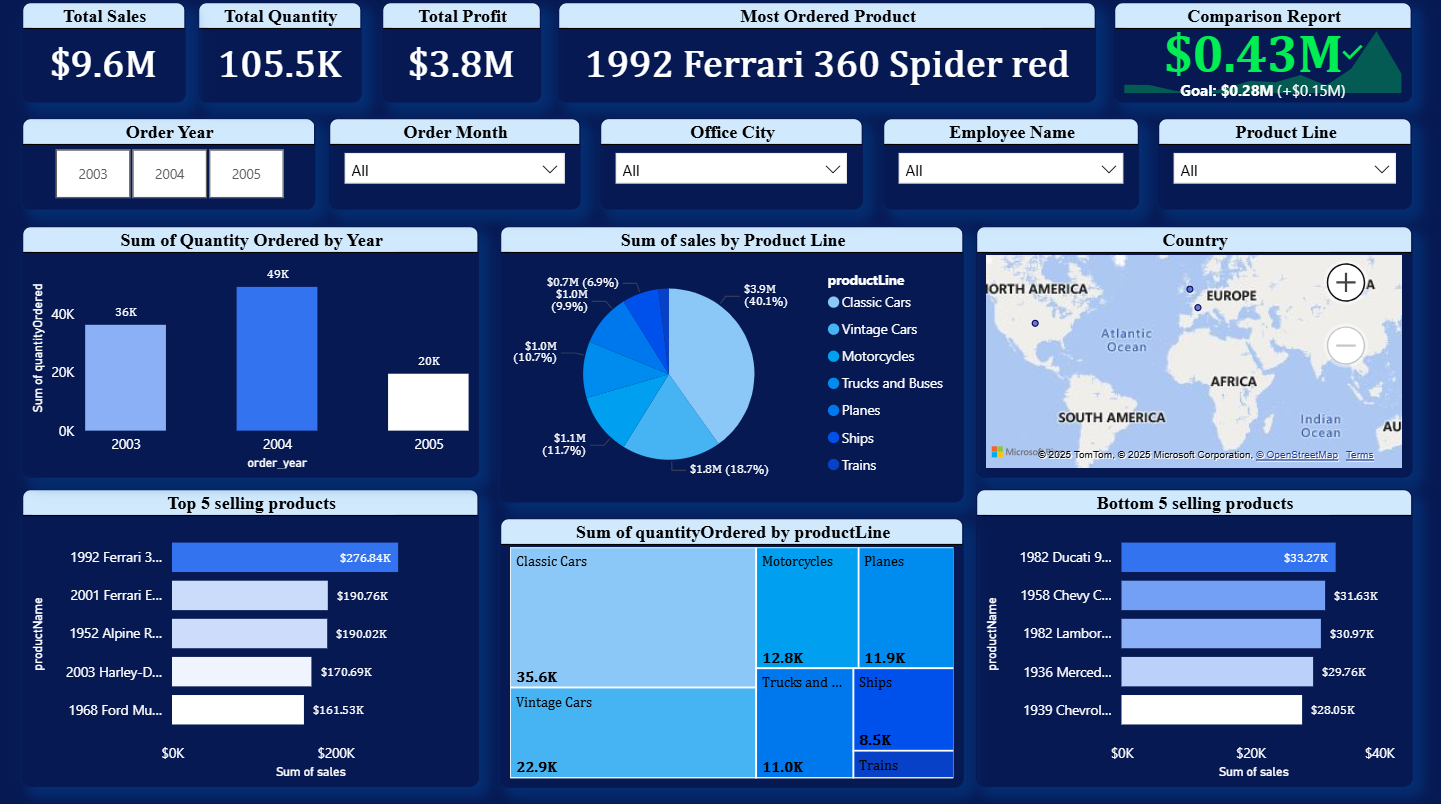

Layout of this report page (visuals, bound fields, positions):
{"tool":"powerbi","page":{"name":"Page 1","canvas":[1280,720],"ordinal":0},"visuals":[{"type":"card","title":"Total Profit","fields":{"Values":["order details.total_profit"]},"box":[339.6,8,141,88.7],"z":0},{"type":"card","title":"Most Ordered Product","fields":{"Values":["order details.Most Ordered Product"]},"box":[495.7,8,477,88.7],"z":1000},{"type":"barChart","title":"Top 5 selling products","fields":{"Category":["products.productName"],"Y":["order details.sales"]},"box":[20.4,439.8,405.2,264.2],"z":2000},{"type":"pieChart","title":"Sum of sales by Product Line","fields":{"Category":["products.productLine"],"Y":["order details.sales"]},"box":[444.2,206.6,411.4,244.7],"z":3000},{"type":"slicer","title":"Order Year","fields":{"Values":["orders.order_year"]},"box":[20.4,110.8,259.8,80.7],"z":4000},{"type":"slicer","title":"Office City","fields":{"Values":["offices.city"]},"box":[532.9,110.8,233.2,80.7],"z":5000},{"type":"kpi","title":"Comparison Report","fields":{"Goal":["orders.sales_2003"],"TrendLine":["orders.Month Name"],"Indicator":["orders.sales_2004"]},"box":[988.7,8,264.2,88.7],"z":6000},{"type":"map","title":"Country","fields":{"Category":["employee.country"]},"box":[866.3,206.6,386.6,223.4],"z":7000},{"type":"treemap","fields":{"Group":["productlines.productLine"],"Values":["order details.quantityOrdered"]},"box":[444.2,465.5,411.4,238.5],"z":8000},{"type":"columnChart","title":"Sum of Quantity Ordered by Year","fields":{"Y":["order details.quantityOrdered"],"Category":["orders.order_year"]},"box":[20.4,206.6,405.2,223.4],"z":9000},{"type":"card","title":"Total Quantity","fields":{"Values":["order details.quantityOrdered"]},"box":[176.5,8,144.5,88.7],"z":10000},{"type":"card","title":"Total Sales","fields":{"Values":["order details.sales"]},"box":[20.4,8,144.5,88.7],"z":11000},{"type":"slicer","title":"Order Month","fields":{"Values":["orders.Month Name"]},"box":[292.6,110.8,222.6,80.7],"z":12000},{"type":"slicer","title":"Employee Name","fields":{"Values":["employee.FullName"]},"box":[783.8,110.8,227,80.7],"z":13000},{"type":"slicer","title":"Product Line","fields":{"Values":["productlines.productLine"]},"box":[1027.7,110.8,225.2,80.7],"z":14000},{"type":"barChart","title":"Bottom 5 selling products","fields":{"Category":["products.productName"],"Y":["order details.sales"]},"box":[866.3,439.8,386.6,264.2],"z":15000}]}

Visuals, with their boxes in screenshot pixels (x1, y1, x2, y2), scaled from the page's 1280x720 canvas onto the 1441x804 screenshot:
"Total Profit" card: 382, 9, 541, 108
"Most Ordered Product" card: 558, 9, 1095, 108
"Top 5 selling products" barChart: 23, 491, 479, 786
"Sum of sales by Product Line" pieChart: 500, 231, 963, 504
"Order Year" slicer: 23, 124, 315, 214
"Office City" slicer: 600, 124, 862, 214
"Comparison Report" kpi: 1113, 9, 1410, 108
"Country" map: 975, 231, 1410, 480
treemap - productlines.productLine x order details.quantityOrdered: 500, 520, 963, 786
"Sum of Quantity Ordered by Year" columnChart: 23, 231, 479, 480
"Total Quantity" card: 199, 9, 361, 108
"Total Sales" card: 23, 9, 186, 108
"Order Month" slicer: 329, 124, 580, 214
"Employee Name" slicer: 882, 124, 1138, 214
"Product Line" slicer: 1157, 124, 1410, 214
"Bottom 5 selling products" barChart: 975, 491, 1410, 786
